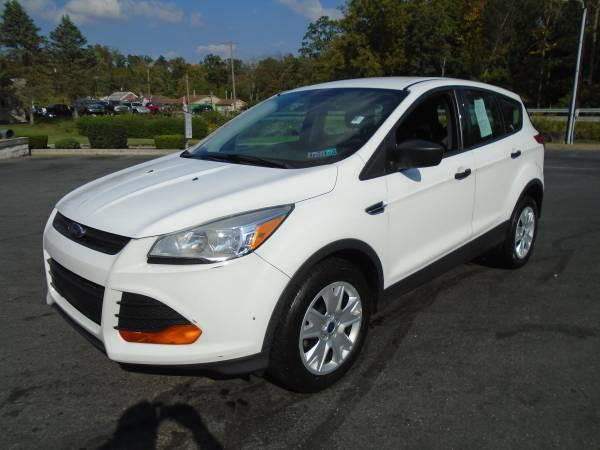Front_Bumper: (45, 203, 295, 369)
Front_Fender: (252, 156, 384, 311)
Front_Left_Door: (378, 155, 474, 301)
Front_Left_Window: (370, 91, 464, 176)
Front_Windshield: (178, 90, 407, 173)
Grille: (42, 245, 103, 345)
Hood: (56, 150, 335, 233)
Left_Headlight: (148, 202, 292, 264)
Rear_Left_Door: (474, 127, 542, 250)
Rear_Left_Window: (458, 91, 525, 156)
Roof: (287, 75, 538, 171)
Wheel: (275, 263, 375, 392), (512, 201, 541, 262)
